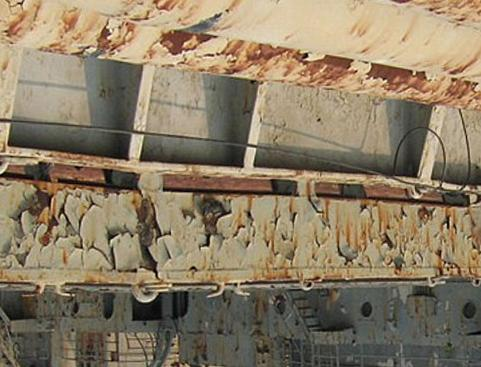rust: (258, 188, 480, 278), (5, 2, 255, 74), (258, 49, 476, 109), (29, 174, 66, 238), (397, 1, 479, 27), (247, 292, 276, 363), (120, 182, 156, 220), (186, 330, 213, 367)
